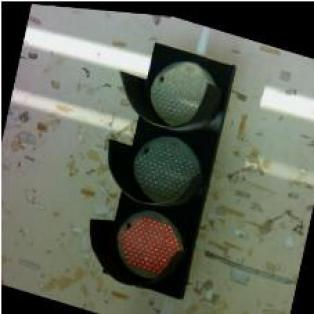Semaforo Rojo: (82, 28, 236, 302)
